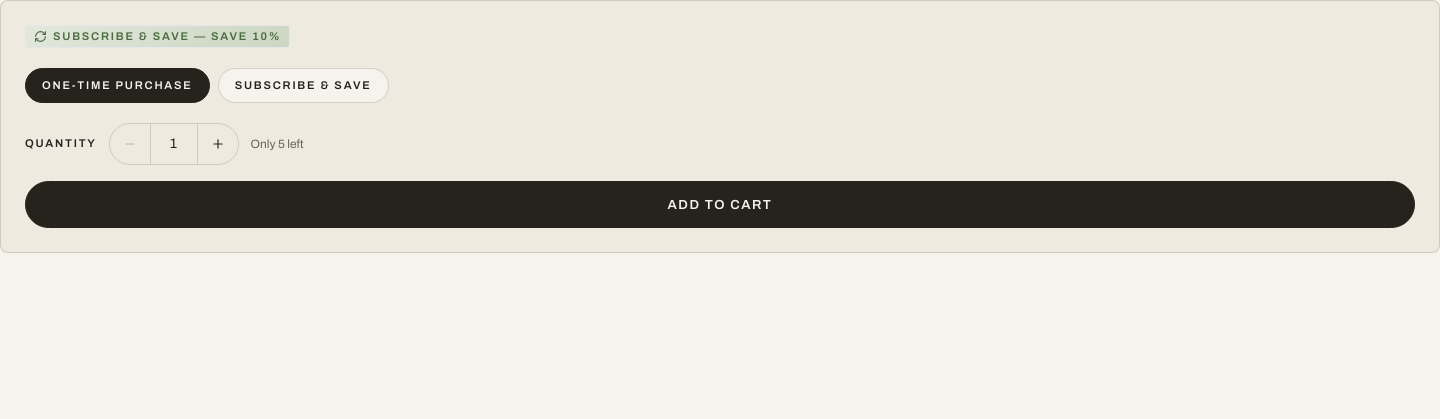
it: SubscribeAndSavePanel › shows cadence radios when Subscribe & Save tab is picked
Click the button "Subscribe & Save" at [303, 85], box x1=218 y1=68 x2=389 y2=103
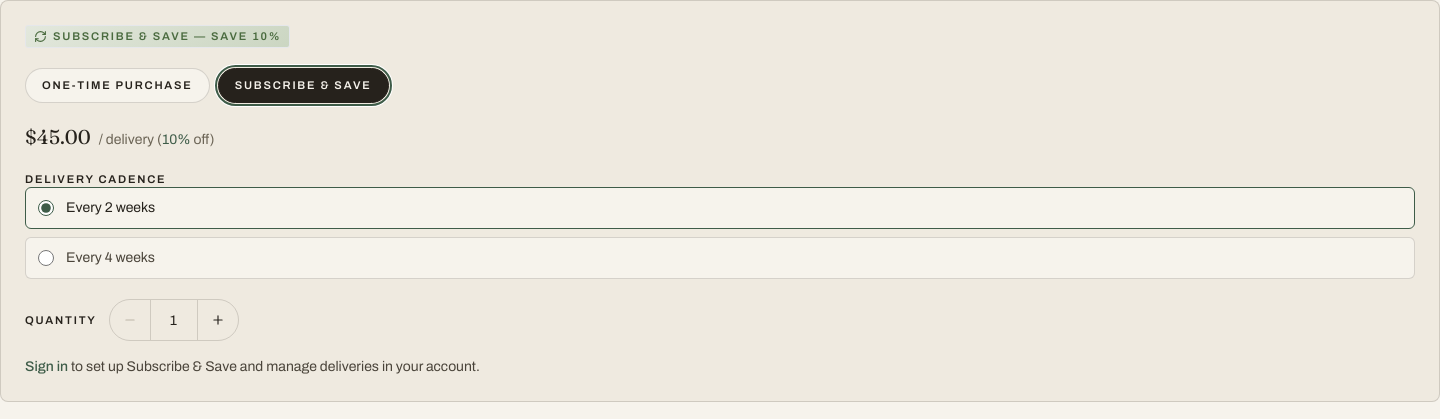
Result: the element named "Subscribe and save cadence" is shown at x1=25 y1=187 x2=1415 y2=279
Result: the radio button labelled "Every 2 weeks" is shown at x1=38 y1=200 x2=54 y2=216
